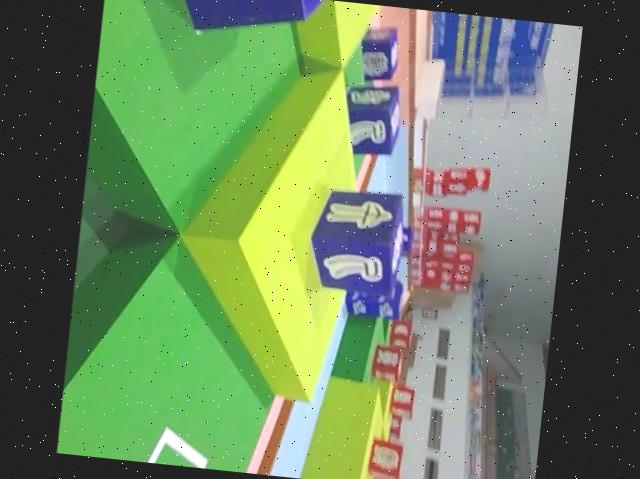R2 Fake Blue: (307, 186, 412, 296), (137, 0, 339, 42), (338, 77, 405, 157), (355, 23, 406, 83)
